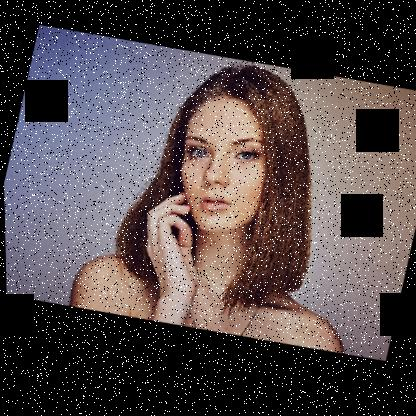Female: (162, 87, 288, 248)
